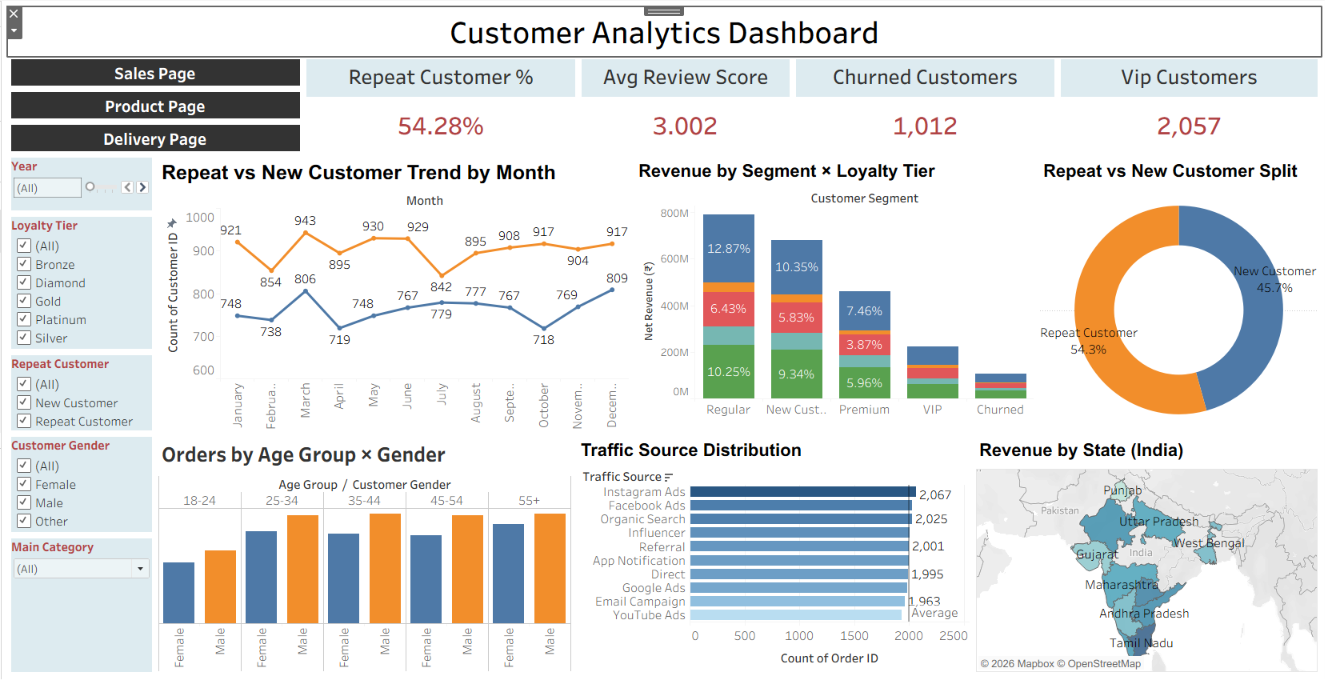

This screenshot's page, from the dashboard's own definition file:
{"tool":"tableau","page":{"name":"Dashboard 3","canvas":[1000,1000],"units":"permille","ordinal":2},"visuals":[{"type":"text","box":[4.8,9.4,990.3,71.6]},{"type":"dashboard-object","box":[4.8,81,223,48.2]},{"type":"worksheet","title":"Sheet 21","mark":"Automatic","box":[227.8,81,207.4,144.6]},{"type":"worksheet","title":"Sheet 22","mark":"Automatic","box":[435.2,81,161.9,144.6]},{"type":"worksheet","title":"Sheet 23","mark":"Automatic","box":[597.1,81,199.6,144.6]},{"type":"worksheet","title":"Sheet 24","mark":"Automatic","box":[796.7,81,198.5,144.6]},{"type":"dashboard-object","box":[4.8,129.2,223,48.2]},{"type":"dashboard-object","box":[4.8,177.4,223,48.2]},{"type":"filter","title":"Orders by Age Group × Gender","param":"[federated.0h8pdpr1l5hpsp1gd3y1a19098aw].[none:Year:ok]","box":[4.8,225.6,110.8,86.8]},{"type":"worksheet","title":"New vs Repeat Customer Trend by Month","mark":"Line","rows":["Customer ID"],"cols":["Month"],"box":[115.6,225.6,359.8,409.7]},{"type":"worksheet","title":"Revenue by Segment × Loyalty Tier","mark":"Automatic","rows":["Net Revenue (₹)"],"cols":["Customer Segment"],"box":[475.4,225.6,305.7,409.7]},{"type":"worksheet","title":"Repeat vs New Customer Split","mark":"Pie","rows":["Calculation_1629538815139841","Calculation_1629538815139841"],"box":[781.1,225.6,214,409.7]},{"type":"filter","title":"Revenue by Segment × Loyalty Tier","param":"[federated.0h8pdpr1l5hpsp1gd3y1a19098aw].[none:Loyalty Tier:nk]","box":[4.8,312.4,110.8,203.4]},{"type":"filter","title":"Repeat vs New Customer Split","param":"[federated.0h8pdpr1l5hpsp1gd3y1a19098aw].[none:Repeat Customer:nk]","box":[4.8,515.8,110.8,119.5]},{"type":"filter","title":"Orders by Age Group × Gender","param":"[federated.0h8pdpr1l5hpsp1gd3y1a19098aw].[none:Customer Gender:nk]","box":[4.8,635.3,111,149.6]},{"type":"worksheet","title":"Orders by Age Group × Gender","mark":"Automatic","rows":["Order ID"],"cols":["Calculation_1006390402719747","Customer Gender"],"box":[115.8,635.3,316.4,355.3]},{"type":"worksheet","title":"Traffic Source Distribution","mark":"Automatic","rows":["Traffic Source"],"cols":["Order ID"],"box":[432.2,635.3,300.3,355.3]},{"type":"worksheet","title":"Revenue by State (India)","mark":"Automatic","box":[732.6,635.3,262.6,355.3]},{"type":"filter","title":"Orders by Age Group × Gender","param":"[federated.0h8pdpr1l5hpsp1gd3y1a19098aw].[none:Main Category:nk]","box":[4.8,784.9,111,205.7]}]}

Visuals, with their boxes on the dashboard's canvas, which has no fixed pixel size, in thousandths of its width and height (x1, y1, x2, y2). These are canvas units, not pixel positions in the 1325x680 screenshot, which may show the page scaled, cropped or inside an application window:
text: Rect(5, 9, 995, 81)
dashboard-object: Rect(5, 81, 228, 129)
"Sheet 21" worksheet: Rect(228, 81, 435, 226)
"Sheet 22" worksheet: Rect(435, 81, 597, 226)
"Sheet 23" worksheet: Rect(597, 81, 797, 226)
"Sheet 24" worksheet: Rect(797, 81, 995, 226)
dashboard-object: Rect(5, 129, 228, 177)
dashboard-object: Rect(5, 177, 228, 226)
"Orders by Age Group × Gender" filter: Rect(5, 226, 116, 312)
"New vs Repeat Customer Trend by Month" worksheet (Line marks): Rect(116, 226, 475, 635)
"Revenue by Segment × Loyalty Tier" worksheet: Rect(475, 226, 781, 635)
"Repeat vs New Customer Split" worksheet (Pie marks): Rect(781, 226, 995, 635)
"Revenue by Segment × Loyalty Tier" filter: Rect(5, 312, 116, 516)
"Repeat vs New Customer Split" filter: Rect(5, 516, 116, 635)
"Orders by Age Group × Gender" filter: Rect(5, 635, 116, 785)
"Orders by Age Group × Gender" worksheet: Rect(116, 635, 432, 991)
"Traffic Source Distribution" worksheet: Rect(432, 635, 732, 991)
"Revenue by State (India)" worksheet: Rect(733, 635, 995, 991)
"Orders by Age Group × Gender" filter: Rect(5, 785, 116, 991)
